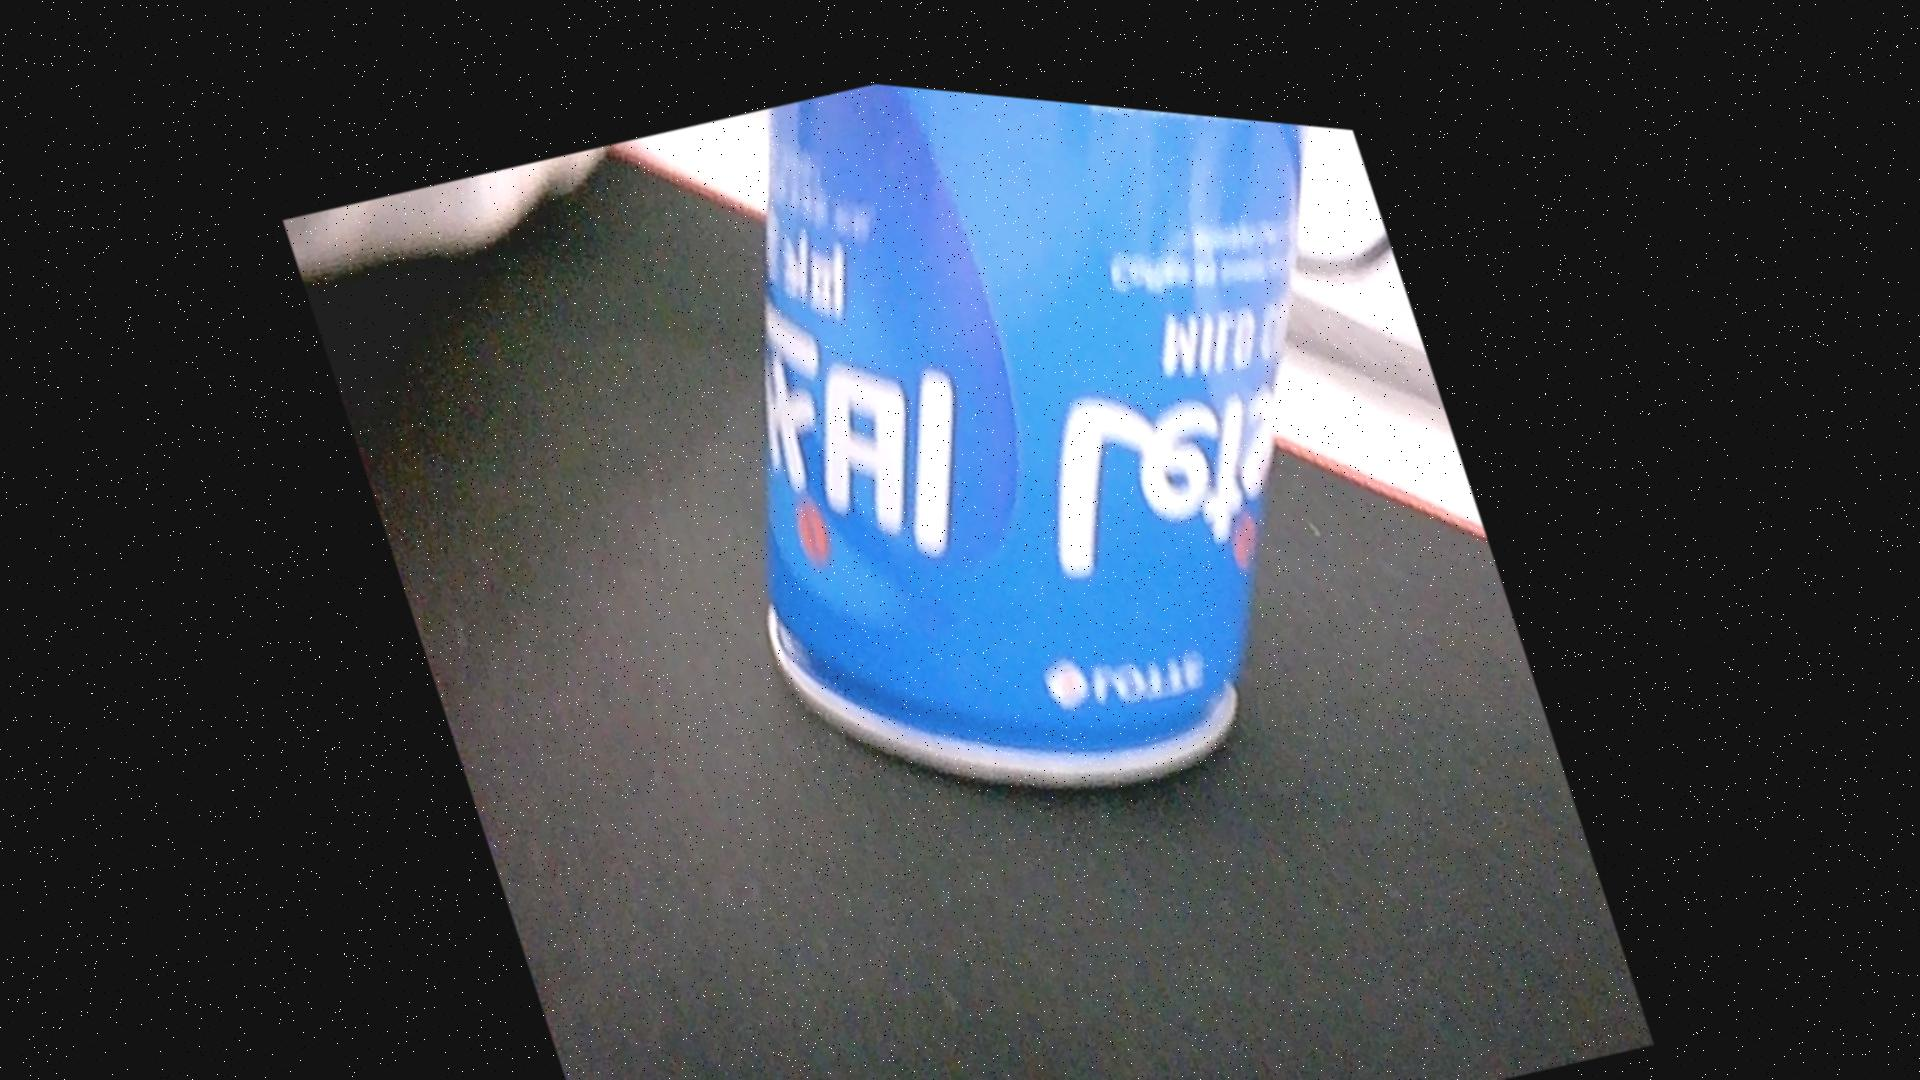letsbe: (604, 46, 1538, 885)
